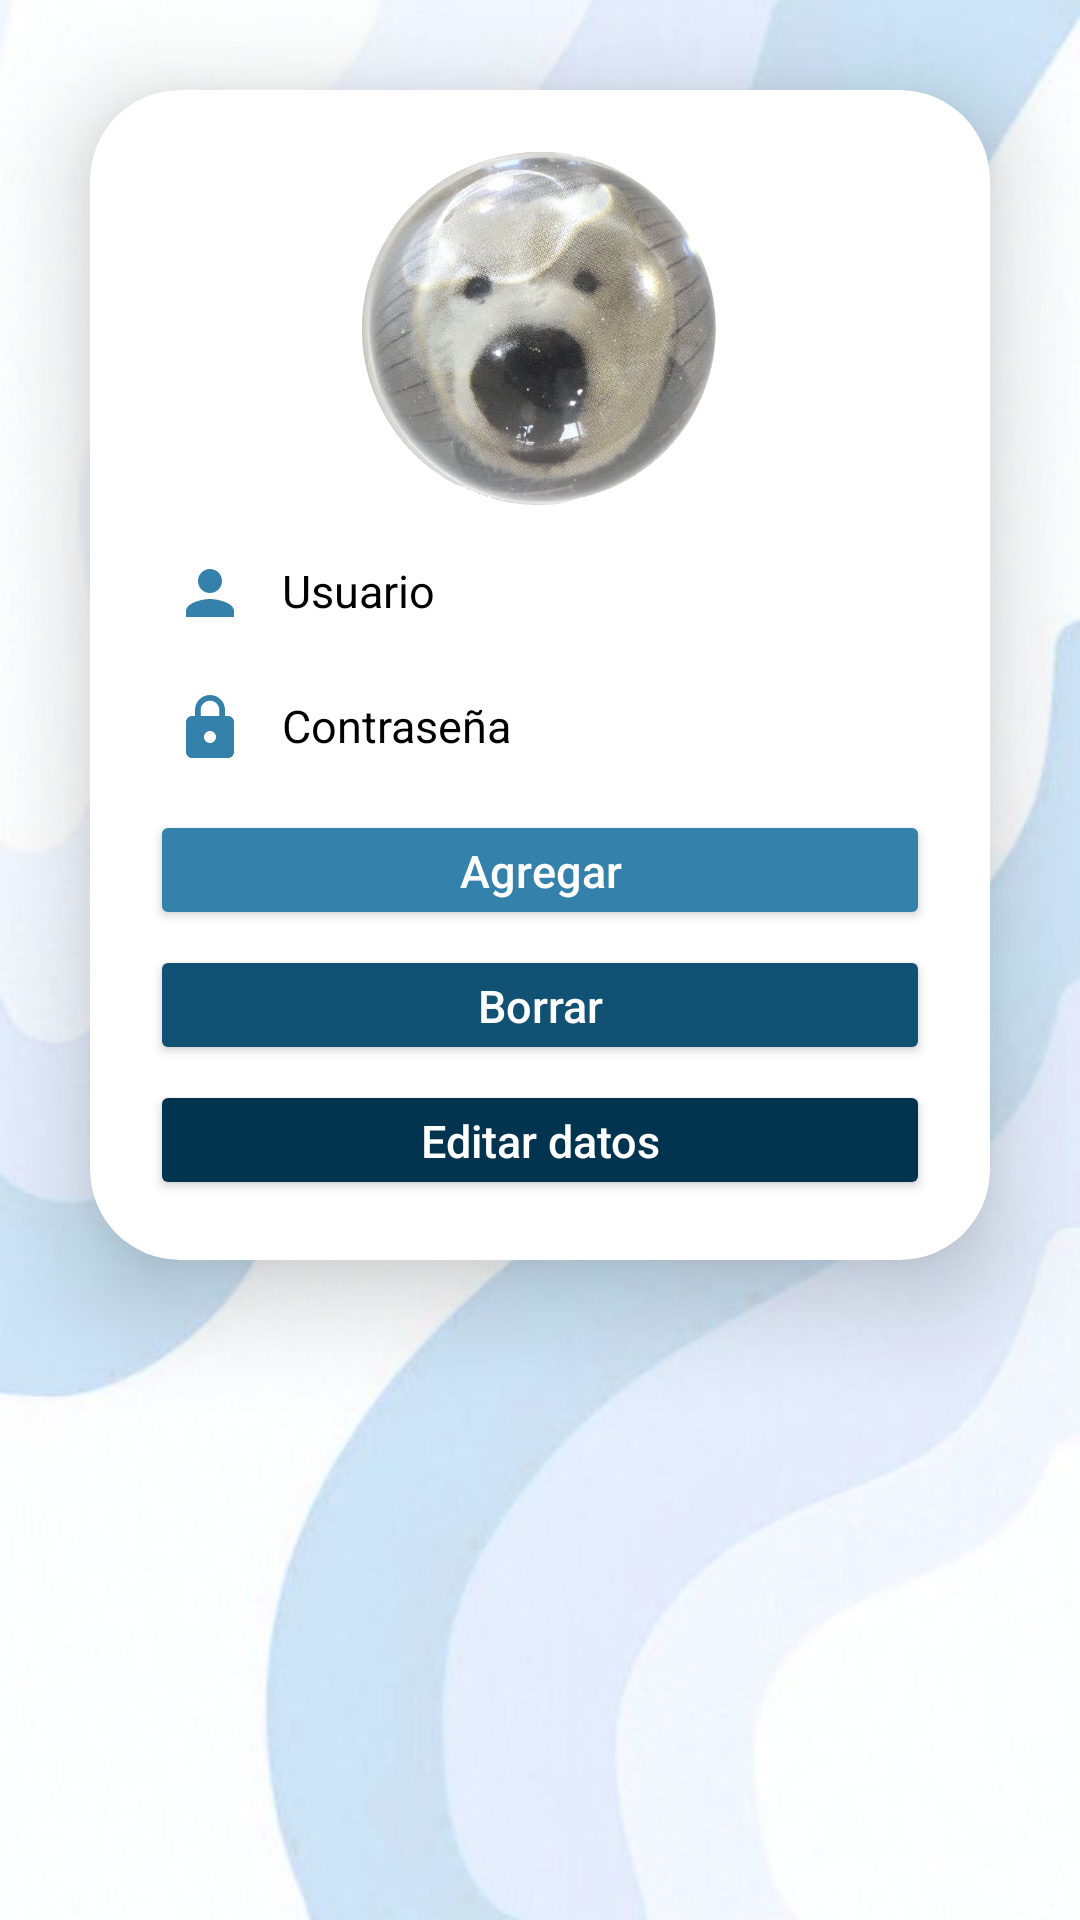

Named icons in this screenshot (1080 x 1920) and their bounding boxes, (x1, y1, x2, y2):
perro: (362, 152, 716, 505)
